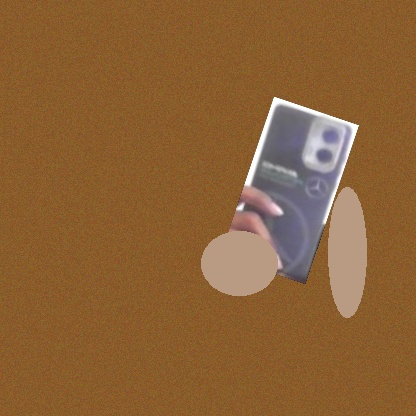cell_phone: (220, 97, 359, 284)
